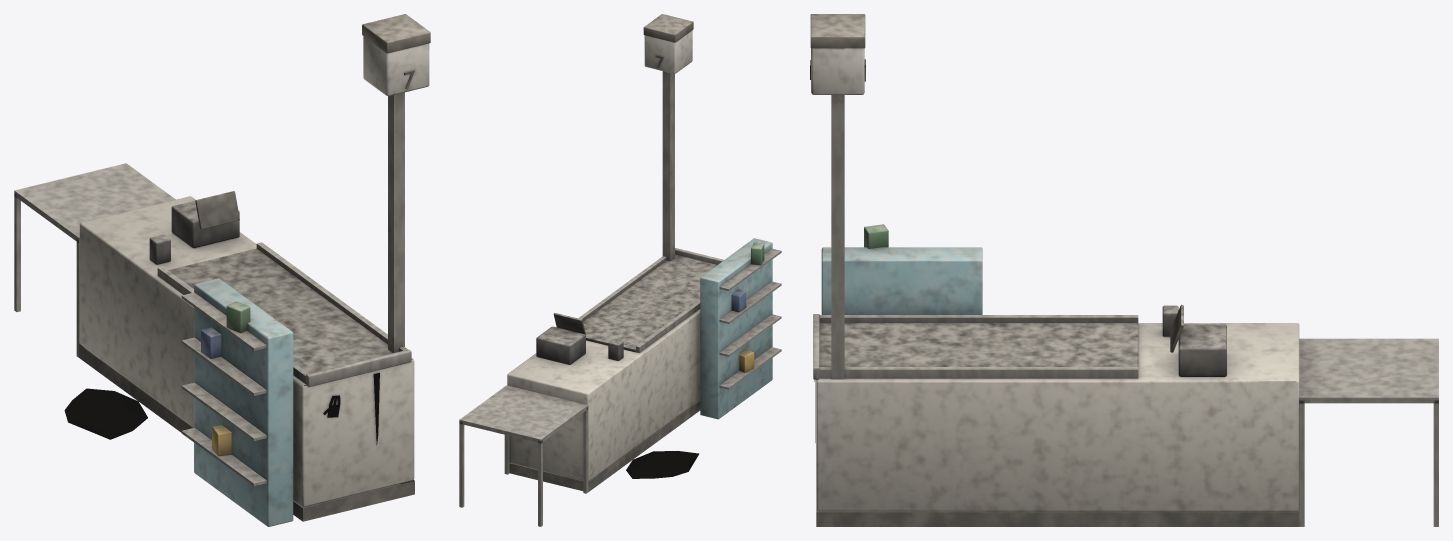
Rendered from checkout_lane.fbx.
3 views of the same model, side by side, from view 1: azimuth 30°, elevation 25°; view 2: azimuth 150°, elevation 25°; view 3: azimuth 270°, elevation 25° (orthographic). The views are drawn at different scales.
Parts seen in each view (by area): view 1: Body; view 2: Body; view 3: Body.
Boxes of the visible parts, x1,y1,x2,y2 form: Body: (14,14,430,526); Body: (459,14,781,526); Body: (810,14,1438,526).
Bounding box in the file's own units: 4.64 × 10.23 × 11.72.
Materials: 1 (1 with a texture image).
